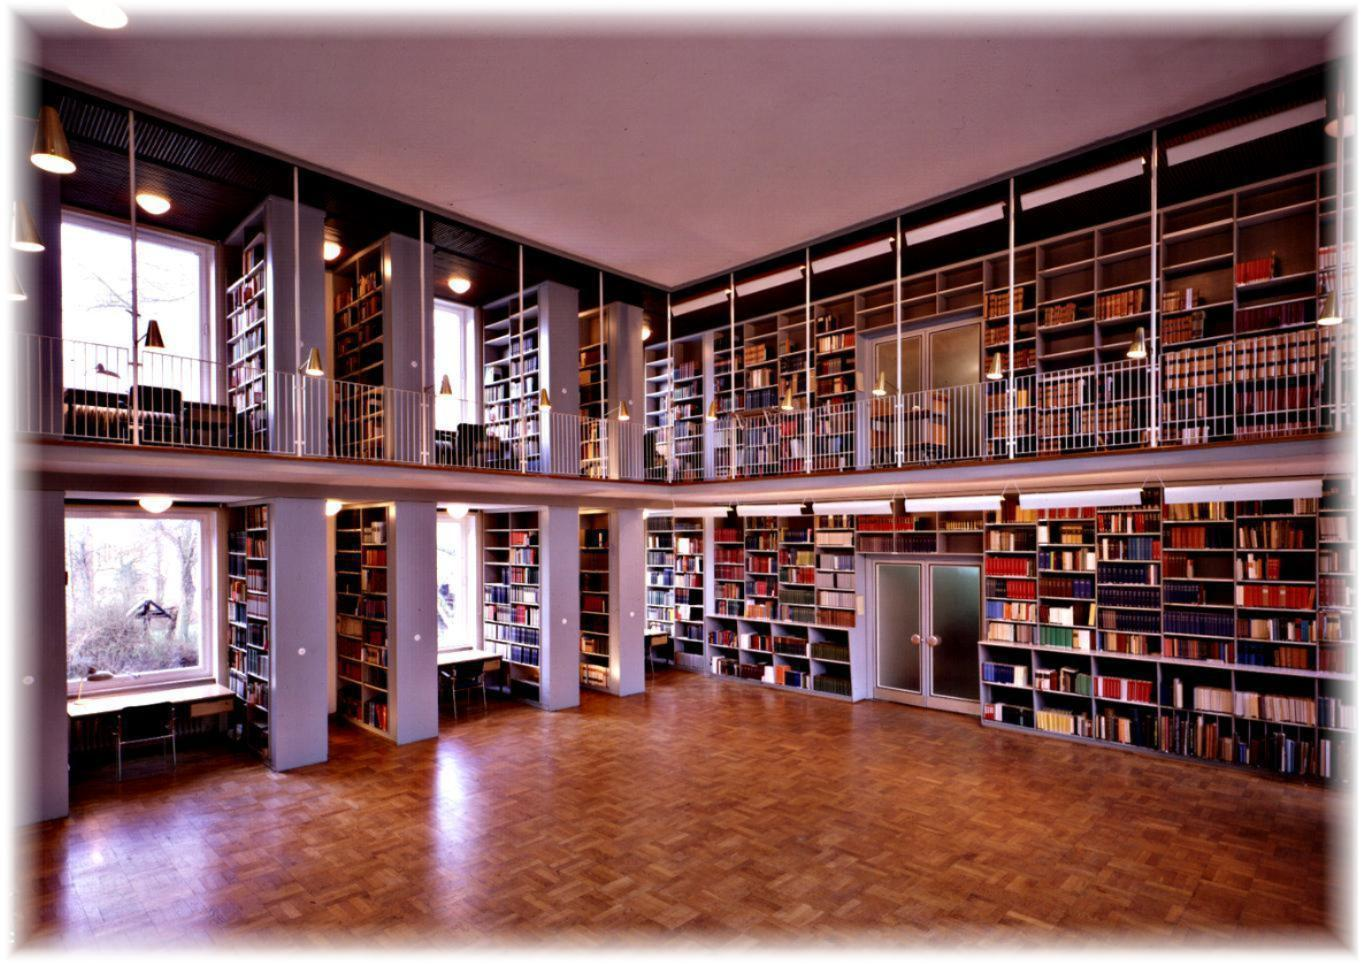Puerta: (865, 561, 975, 712)
Ventana: (59, 512, 221, 683), (431, 508, 493, 655)
